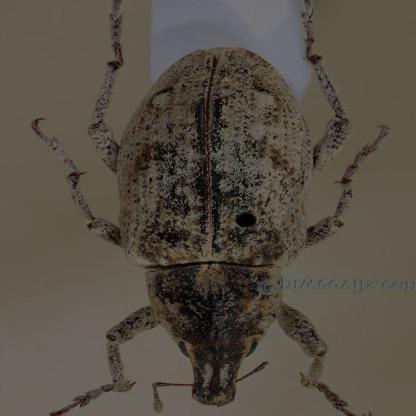rice-bug: (84, 0, 364, 411)
